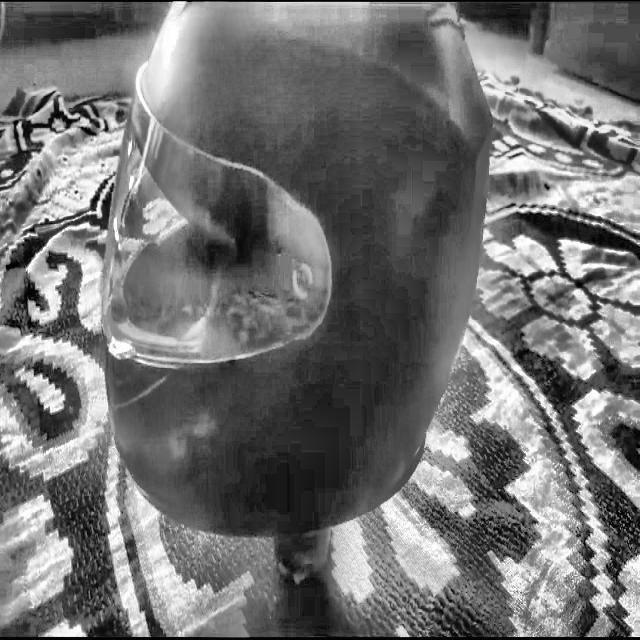Helmet: (101, 0, 493, 543)
